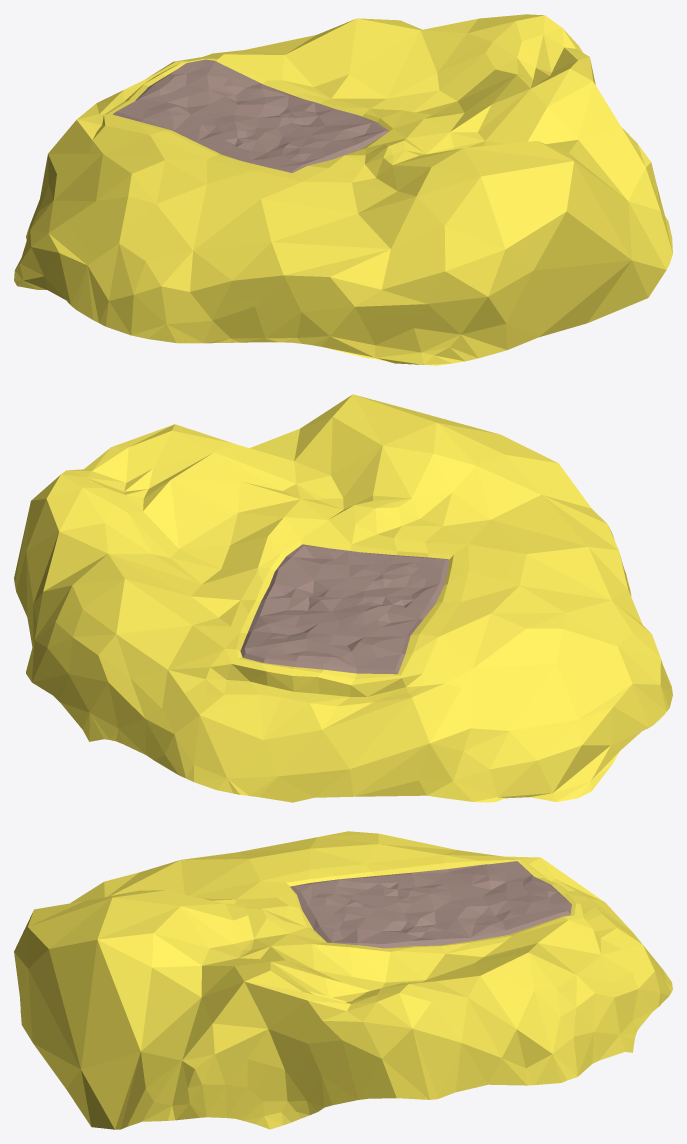
File: ground_022.fbx
The picture shows the model from 3 angles, top to bottom: view 1: azimuth 30°, elevation 25°; view 2: azimuth 150°, elevation 25°; view 3: azimuth 270°, elevation 25°; orthographic projection. The views are drawn at different scales.
Visible parts, largest first — view 1: ground.022; view 2: ground.022; view 3: ground.022.
Part boxes in pixels (x1=…): ground.022: x1=14, y1=14, x2=672, y2=365; ground.022: x1=14, y1=394, x2=672, y2=802; ground.022: x1=14, y1=831, x2=672, y2=1129.
Size of the model in its own units: 2336 by 668 by 2433.
1 material, 1 textured.
